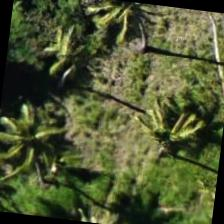Kelapa_Sawit: (135, 71, 223, 171)
